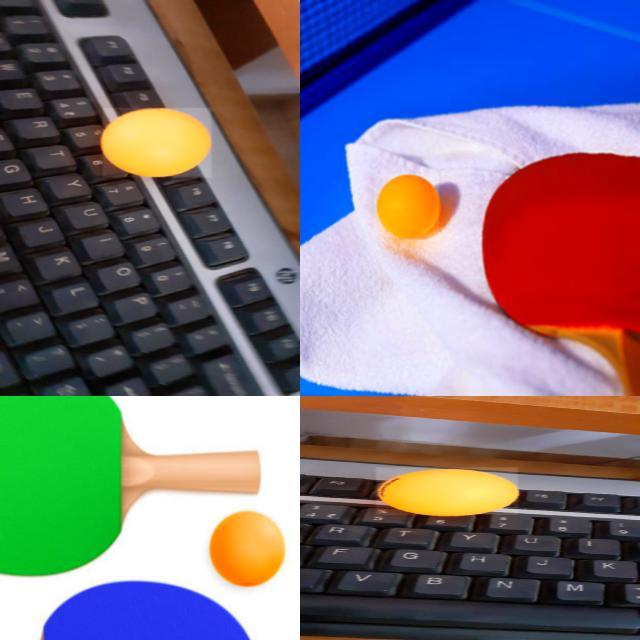ping-pong-ball: (102, 108, 212, 178), (376, 468, 519, 516), (209, 512, 285, 584), (374, 174, 440, 238)
